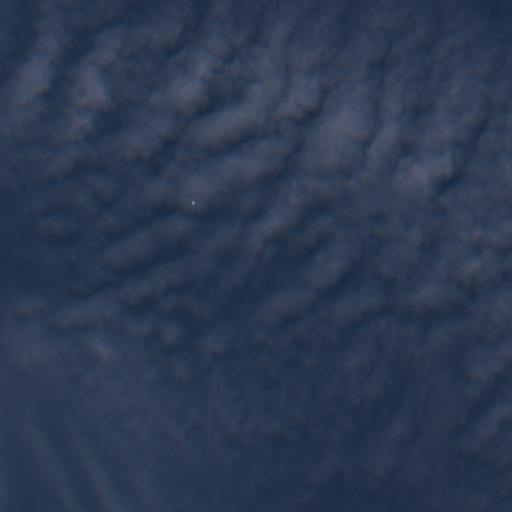Iceberg: (192, 201, 194, 204)
